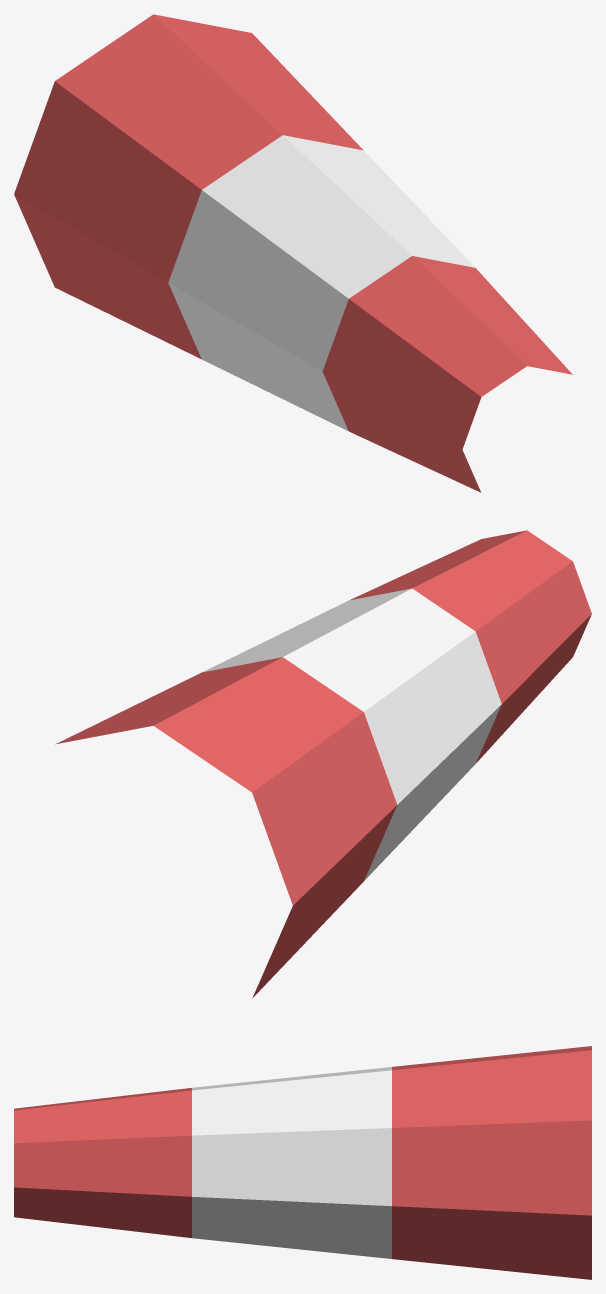
The model's file is flag.glb.
3 views of the same model, one above another, from view 1: azimuth 30°, elevation 25°; view 2: azimuth 150°, elevation 25°; view 3: azimuth 270°, elevation 25° (orthographic). The views are drawn at different scales.
Visible parts, largest first — view 1: Mesh; view 2: Mesh; view 3: Mesh.
Part boxes in pixels (bbox=[...]): Mesh: bbox=[14, 14, 572, 492]; Mesh: bbox=[55, 530, 591, 998]; Mesh: bbox=[14, 1046, 591, 1279].
Bounding box in the file's own units: 0.56 × 0.56 × 1.3.
